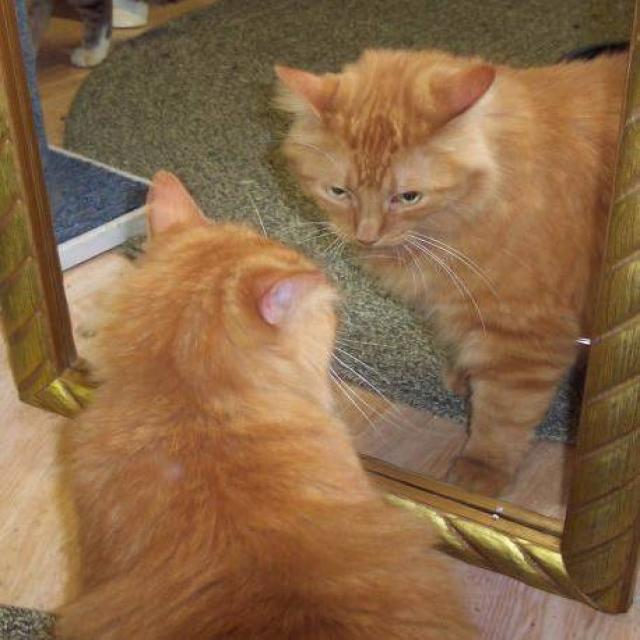cat: (48, 168, 489, 639), (267, 39, 632, 496)
